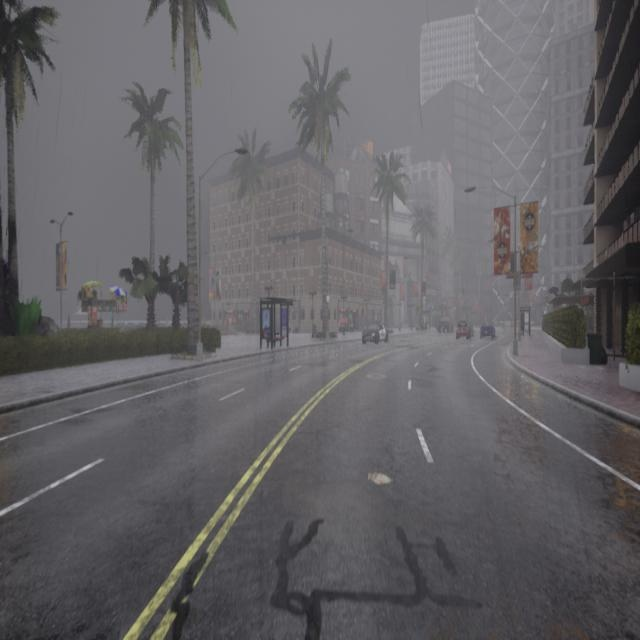bien_chi_dan: (546, 294, 550, 308), (497, 290, 500, 300), (546, 301, 549, 306), (497, 296, 500, 300)
